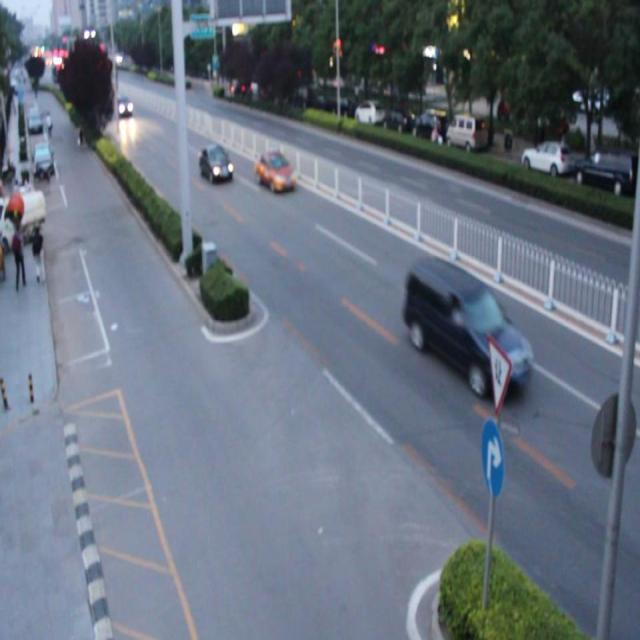car: (254, 148, 297, 191), (198, 143, 233, 183)
truck: (405, 250, 533, 396)
